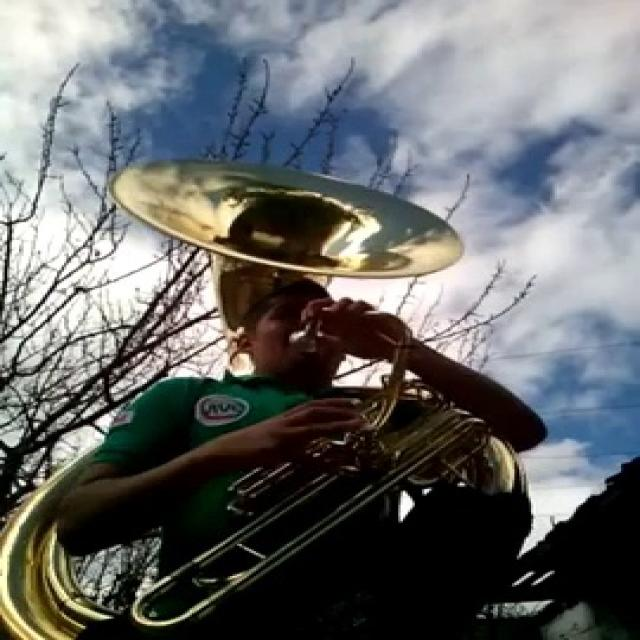Tuba: (6, 156, 522, 634)
